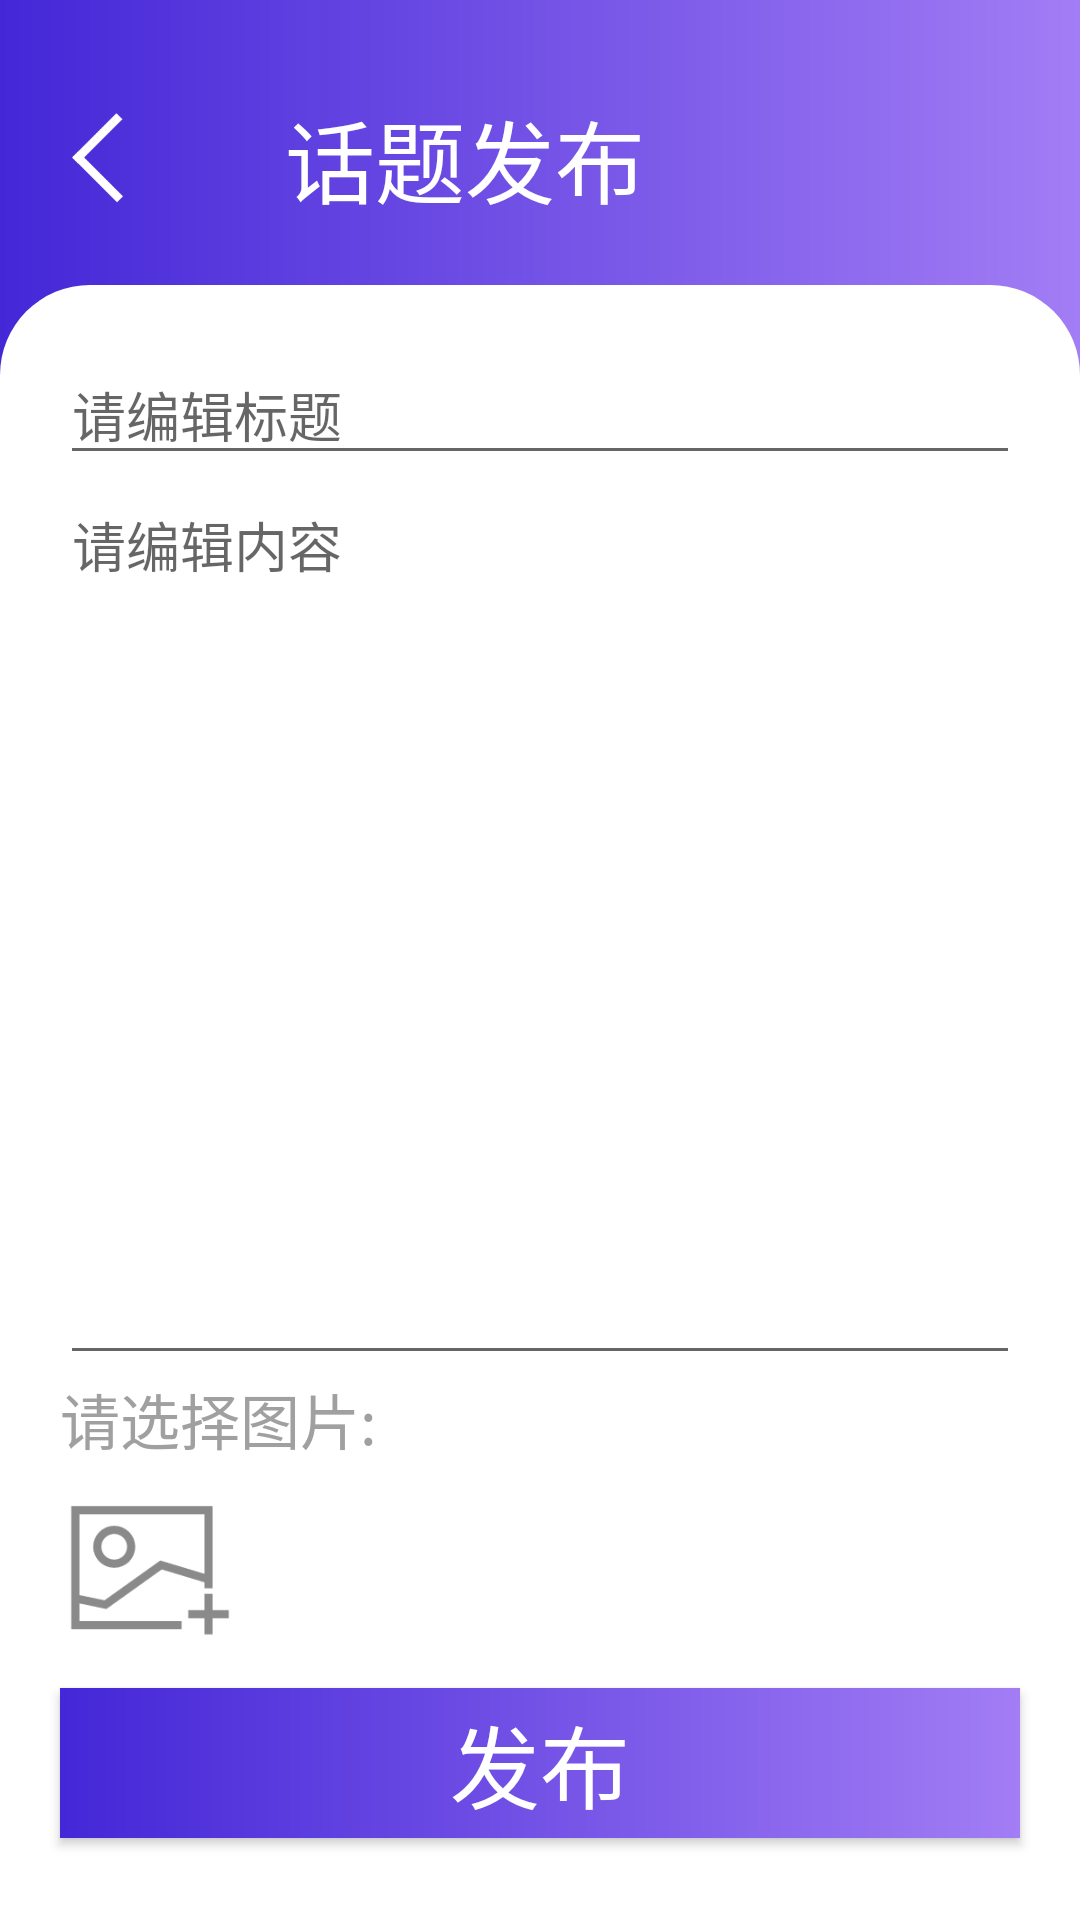

Named icons in this screenshot (1080px x 1920px) and their bounding boxes, (x1, y1, x2, y2):
add: (71, 1506, 229, 1635)
back: (72, 113, 123, 202)
